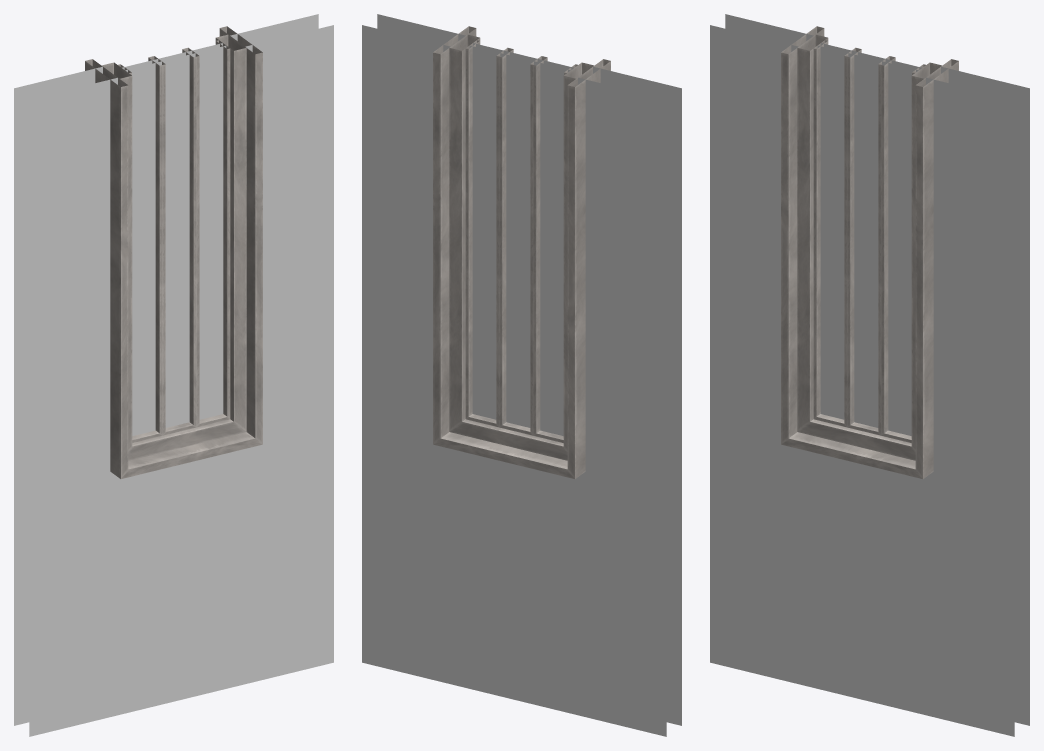
Rendered from Wall_Window_C_F.fbx.
3 views of the same model, side by side, from view 1: azimuth 30°, elevation 25°; view 2: azimuth 150°, elevation 25°; view 3: azimuth 330°, elevation 25° (orthographic).
Parts seen in each view (by area): view 1: Wall_Window_C_F; view 2: Wall_Window_C_F; view 3: Wall_Window_C_F.
Part boxes in pixels (x1=…): Wall_Window_C_F: x1=14, y1=14, x2=333, y2=736; Wall_Window_C_F: x1=362, y1=14, x2=681, y2=736; Wall_Window_C_F: x1=710, y1=14, x2=1029, y2=736.
Bounding box in the file's own units: 3 × 0.6115 × 6.
